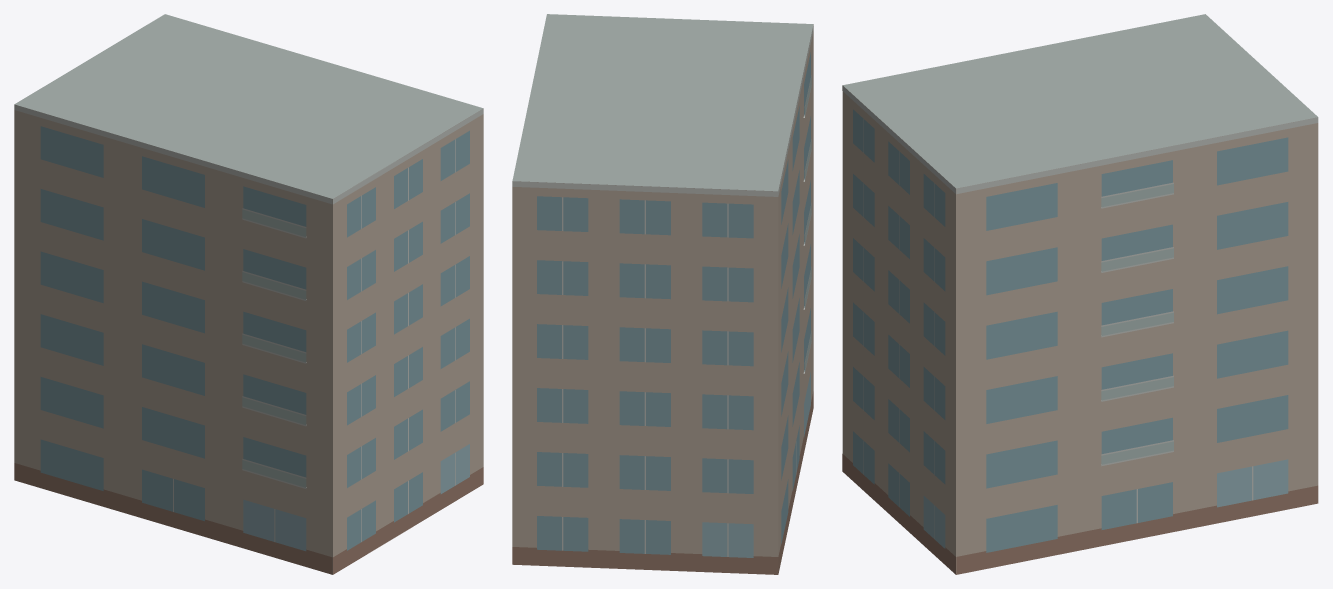
The model's file is survey-upis-32697514.glb.
3 renders of one model, left to right at view 1: azimuth 30°, elevation 25°; view 2: azimuth 150°, elevation 25°; view 3: azimuth 270°, elevation 25°, orthographic. The views are drawn at different scales.
Parts seen in each view (by area): view 1: survey-upis-32697514.tmp; view 2: survey-upis-32697514.tmp; view 3: survey-upis-32697514.tmp.
Part boxes in pixels (left/top/right/bottom): survey-upis-32697514.tmp: left=14, top=14, right=483, bottom=574; survey-upis-32697514.tmp: left=512, top=14, right=813, bottom=574; survey-upis-32697514.tmp: left=842, top=14, right=1318, bottom=574.
Size of the model in its own units: 16 by 16.5 by 18.43.
